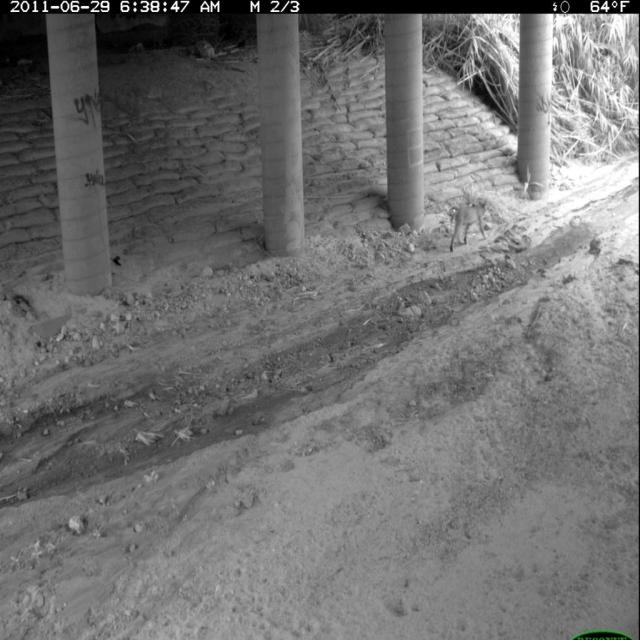bobcat: (447, 194, 492, 258)
